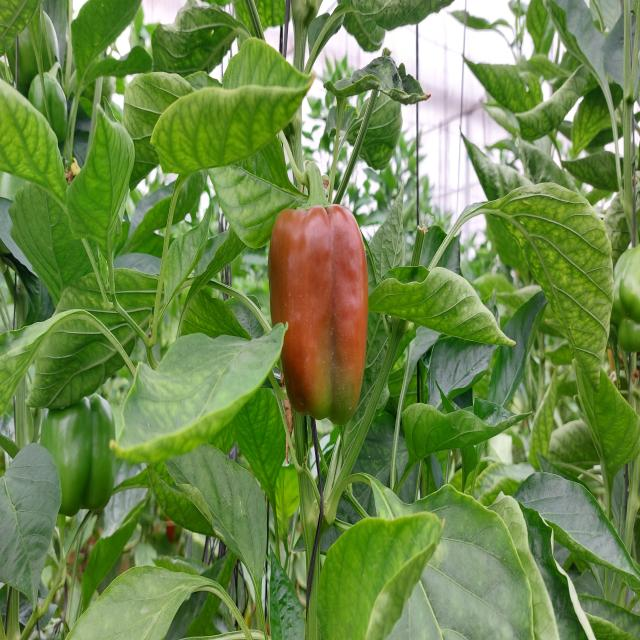BrownishRed--Can-be-Harvested: (266, 204, 379, 440)
Green--Not-ready-to-harvest: (47, 393, 114, 516)
